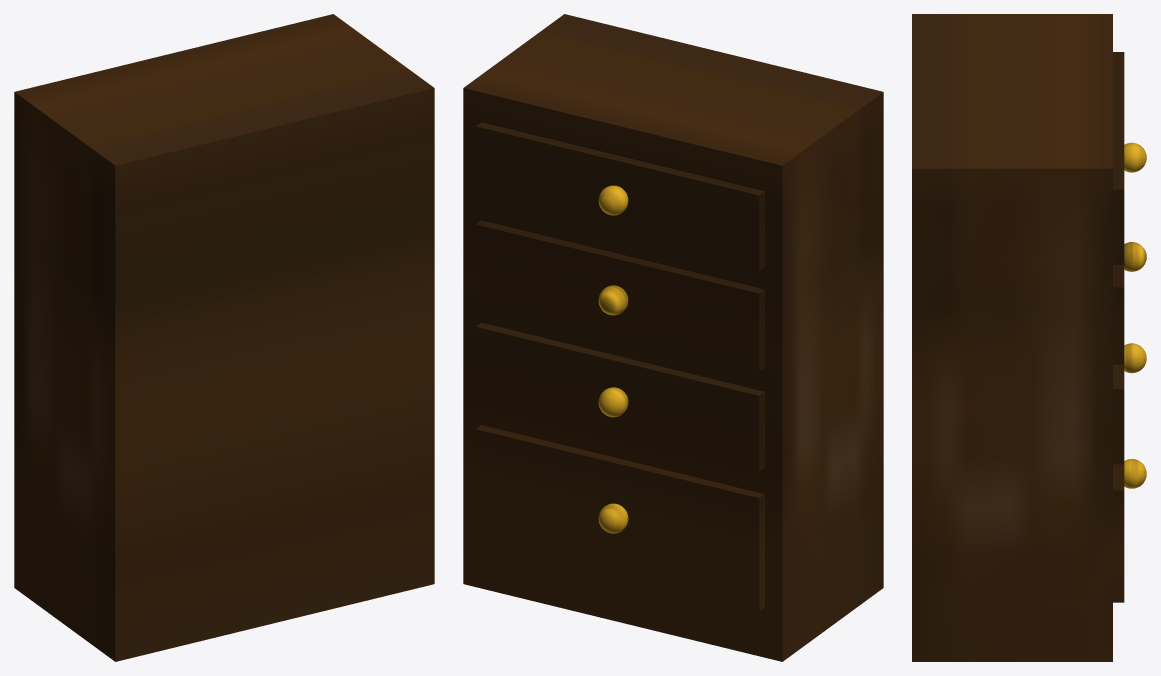
Rendered from cupboard_2.fbx.
3 renders of one model, left to right at view 1: azimuth 30°, elevation 25°; view 2: azimuth 150°, elevation 25°; view 3: azimuth 270°, elevation 25°, orthographic.
Parts seen in each view (by area): view 1: polySurface6; view 2: polySurface6; view 3: polySurface6.
Boxes of the visible parts, box(x1,y1,x2,y2) form: polySurface6: box(14, 14, 434, 661); polySurface6: box(463, 14, 883, 661); polySurface6: box(912, 14, 1146, 661).
Bounding box in the file's own units: 5.77 × 8.58 × 3.7.
